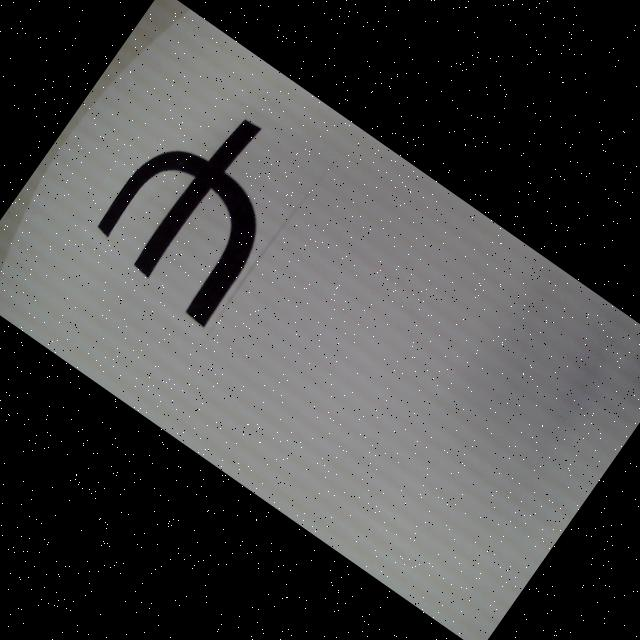PSI: (81, 82, 316, 328)
